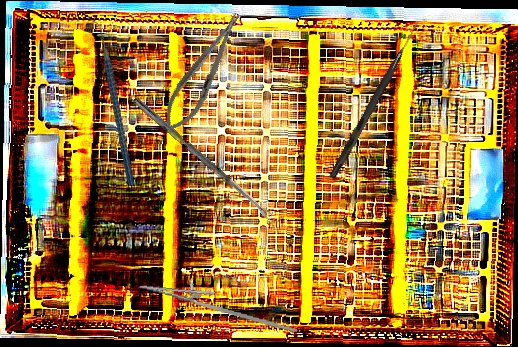Chopper: (65, 16, 157, 186)
Hook Surgical: (329, 18, 421, 181)
Needle Holder: (153, 5, 253, 141), (136, 271, 302, 334)
Surgical Spoon: (131, 96, 274, 222)
